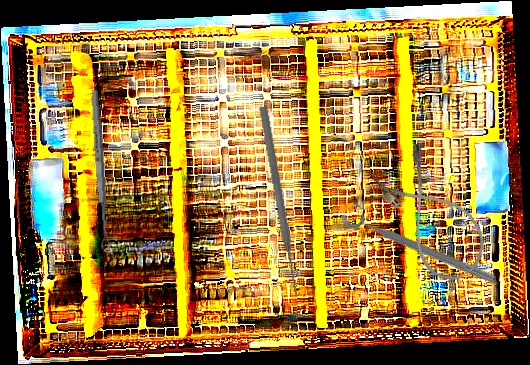Cannula: (367, 139, 497, 291)
Fixation Ring: (337, 198, 503, 289)
Pusher: (257, 105, 302, 297)
Surgical Spoon: (89, 89, 111, 251)
